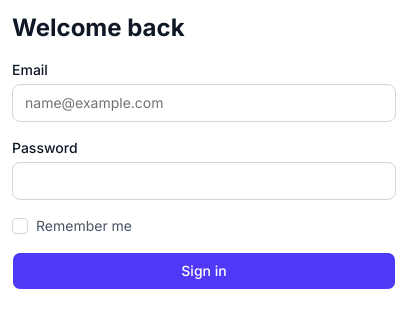
Test: LoginForm › requires an email
Type "password123" into the password field labelled "Password" at (204, 181), box [12,162,396,200]
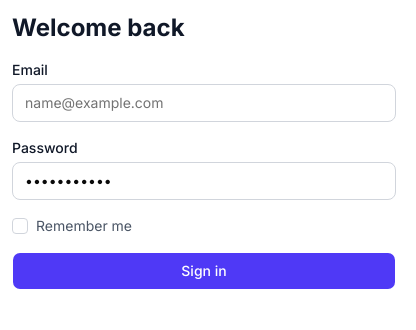
Click the button "Sign in" at (204, 271), box [12,252,396,290]
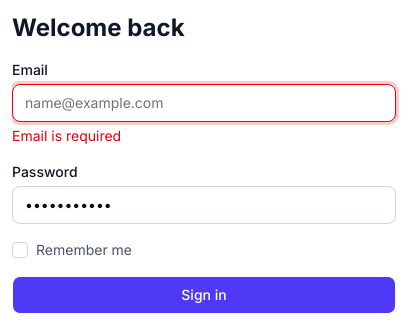
Now the text "Email is required" is shown, box [12,127,121,144]
